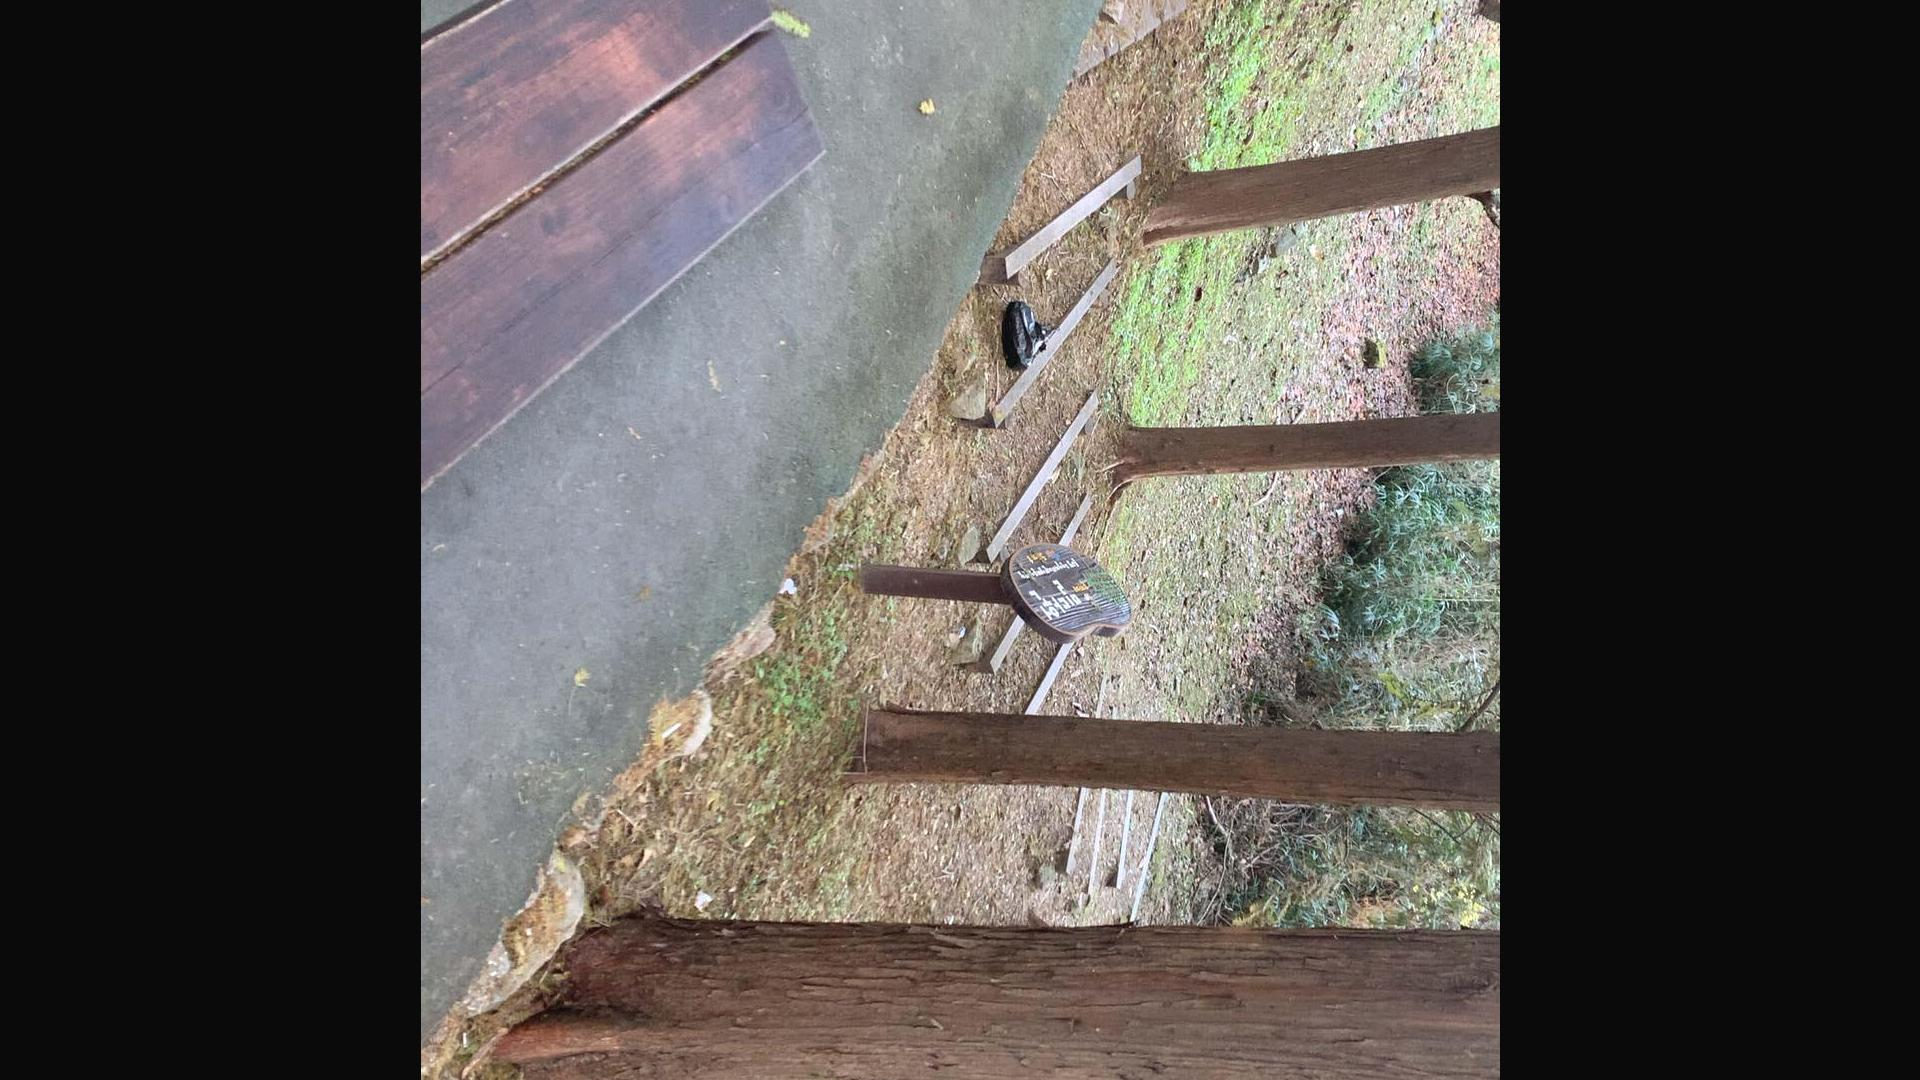black_bag: (1000, 291, 1059, 373)
